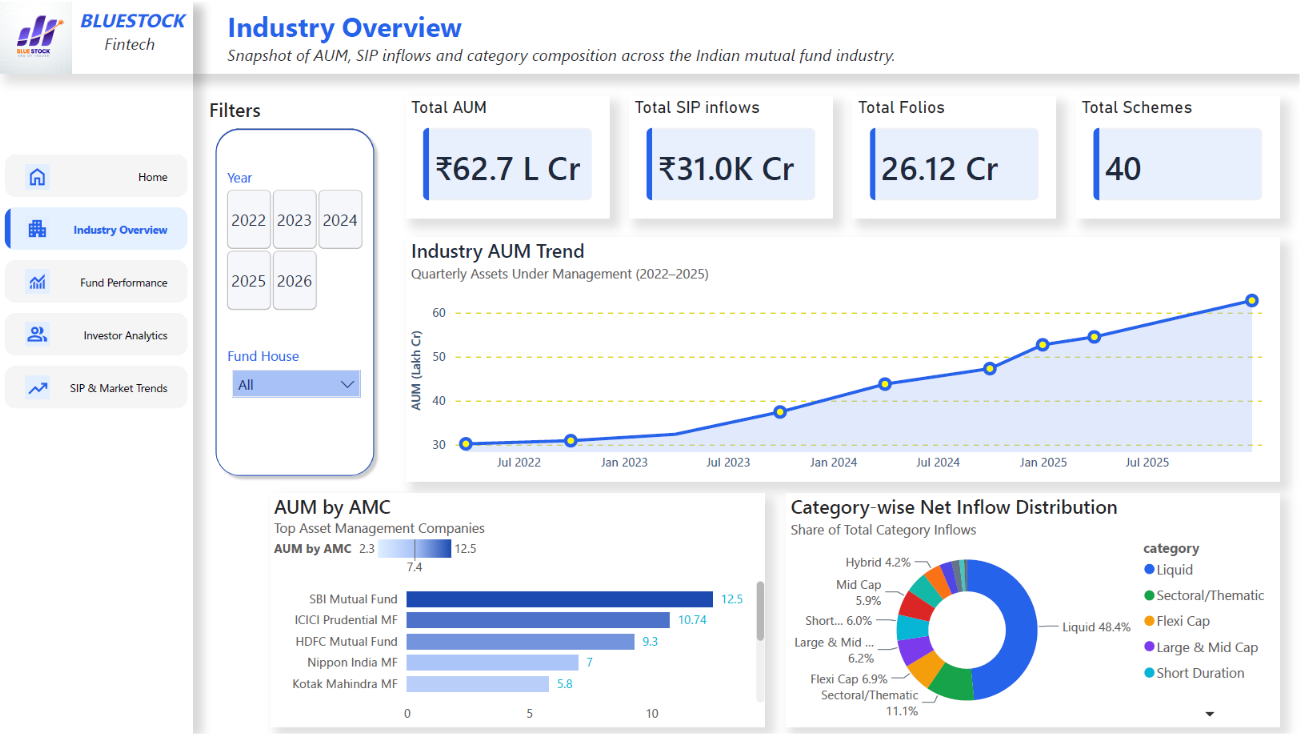

The dashboard page shown, as its layout file describes it:
{"tool":"powerbi","page":{"name":"Industry Overview","canvas":[1280,720],"ordinal":1},"visuals":[{"type":"shape","box":[0,0,1280,70],"z":0},{"type":"pageNavigator","box":[5,150,180,250],"z":0,"group":"g1"},{"type":"shape","box":[0,0,190,720],"z":1000},{"type":"image","box":[25,160,24,24],"z":1000,"group":"g1"},{"type":"shape","box":[0,0,190,70],"z":2000},{"type":"image","box":[25,263,24,24],"z":2000,"group":"g1"},{"type":"lineChart","title":"Industry AUM Trend","fields":{"Category":["Fact_AUM.date"],"Y":["Measure_Table.Total AUM Trend"]},"box":[400,232,860,240],"z":3000},{"type":"image","box":[25,367.5,23.8,23.8],"z":3000,"group":"g1"},{"type":"image","box":[25,315,23.8,23.8],"z":4000,"group":"g1"},{"type":"donutChart","title":"Category-wise Net Inflow Distribution","fields":{"Category":["Fact_Category.category"],"Y":["Measure_Table.Category Net Inflow"]},"box":[773.8,484,486.2,230],"z":4000},{"type":"image","box":[25,211.2,23.8,23.8],"z":5000,"group":"g1"},{"type":"clusteredBarChart","title":"AUM by AMC","fields":{"Y":["Measure_Table.AUM by AMC"],"Category":["Fact_AUM.fund_house"]},"box":[267,484,486,230],"z":5000},{"type":"group","id":"g1","title":"Group 1","box":[5,150,180,250],"z":6000},{"type":"textbox","box":[190,0,1090,70],"z":7000},{"type":"cardVisual","title":"Total SIP inflows","fields":{"Data":["Measure_Table.Total SIP Display"]},"box":[620,92.5,200,120],"z":8000},{"type":"cardVisual","title":"Total Folios","fields":{"Data":["Measure_Table.Total Folios Display"]},"box":[840,92.5,200,120],"z":9000},{"type":"cardVisual","title":"Total Schemes","fields":{"Data":["Measure_Table.Total Schemes"]},"box":[1060,92.5,200,120],"z":10000},{"type":"shape","title":"Filters","box":[206.2,92.5,170,380],"z":11000},{"type":"advancedSlicerVisual","fields":{"Values":["Dim_Date.Year"]},"box":[218.8,163.8,145,145],"z":12000},{"type":"cardVisual","title":"Total AUM","fields":{"Data":["Measure_Table.Total AUM (Display)"]},"box":[400,92.5,200,120],"z":13000},{"type":"textbox","box":[48.8,0,141.2,70],"z":14000},{"type":"image","box":[0,0,71.2,70],"z":15000},{"type":"slicer","title":"Fund House","fields":{"Values":["Fact_AUM.fund_house"]},"box":[218.8,338.8,146.2,77.5],"z":16000}]}

Visuals, with their boxes on the page's 1280x720 design canvas (x1, y1, x2, y2). These are canvas units, not pixel positions in the 1300x736 screenshot, which may show the page scaled, cropped or inside an application window:
shape: select_region(0, 0, 1280, 70)
pageNavigator: select_region(5, 150, 185, 400)
shape: select_region(0, 0, 190, 720)
image: select_region(25, 160, 49, 184)
shape: select_region(0, 0, 190, 70)
image: select_region(25, 263, 49, 287)
"Industry AUM Trend" lineChart: select_region(400, 232, 1260, 472)
image: select_region(25, 368, 49, 391)
image: select_region(25, 315, 49, 339)
"Category-wise Net Inflow Distribution" donutChart: select_region(774, 484, 1260, 714)
image: select_region(25, 211, 49, 235)
"AUM by AMC" clusteredBarChart: select_region(267, 484, 753, 714)
"Group 1" group: select_region(5, 150, 185, 400)
textbox: select_region(190, 0, 1280, 70)
"Total SIP inflows" cardVisual: select_region(620, 92, 820, 212)
"Total Folios" cardVisual: select_region(840, 92, 1040, 212)
"Total Schemes" cardVisual: select_region(1060, 92, 1260, 212)
"Filters" shape: select_region(206, 92, 376, 472)
advancedSlicerVisual - Dim_Date.Year: select_region(219, 164, 364, 309)
"Total AUM" cardVisual: select_region(400, 92, 600, 212)
textbox: select_region(49, 0, 190, 70)
image: select_region(0, 0, 71, 70)
"Fund House" slicer: select_region(219, 339, 365, 416)
